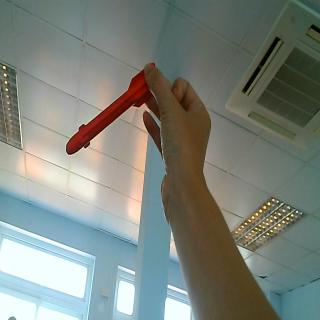Rocket: (64, 60, 146, 157)
